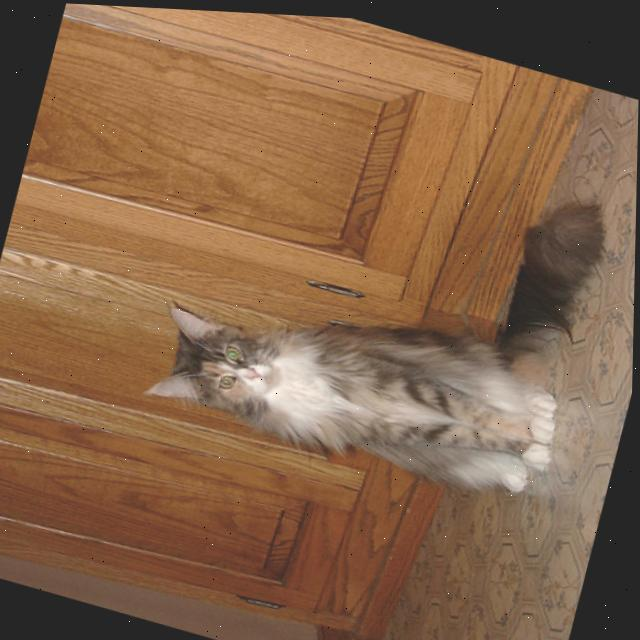Maine Coon: (139, 91, 624, 512)
